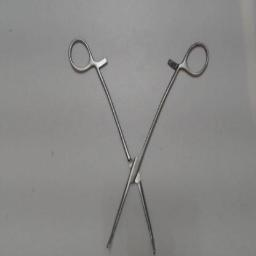Lahey Forceps: (63, 32, 213, 256)
